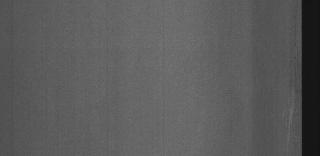silk spot: (281, 13, 299, 149)
